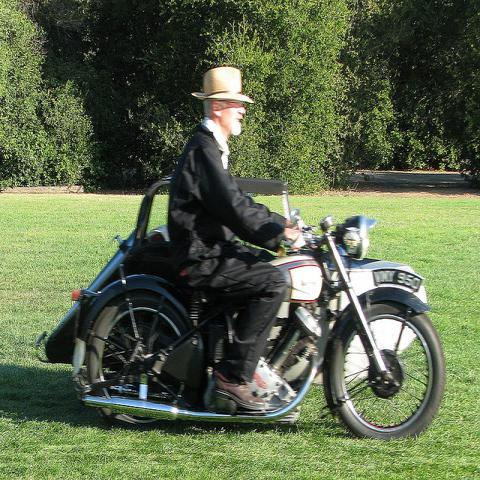motorcycle: (34, 170, 450, 438)
